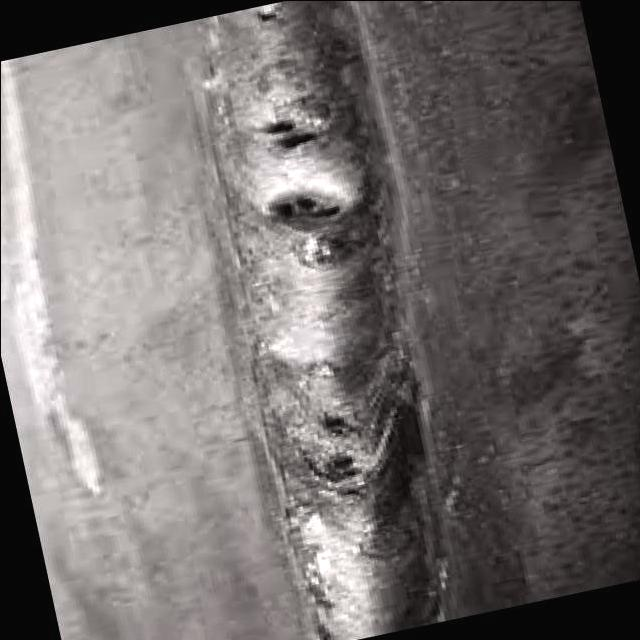defect: (264, 190, 353, 226), (311, 455, 366, 503), (253, 121, 327, 153), (304, 412, 360, 445), (247, 8, 284, 28)
